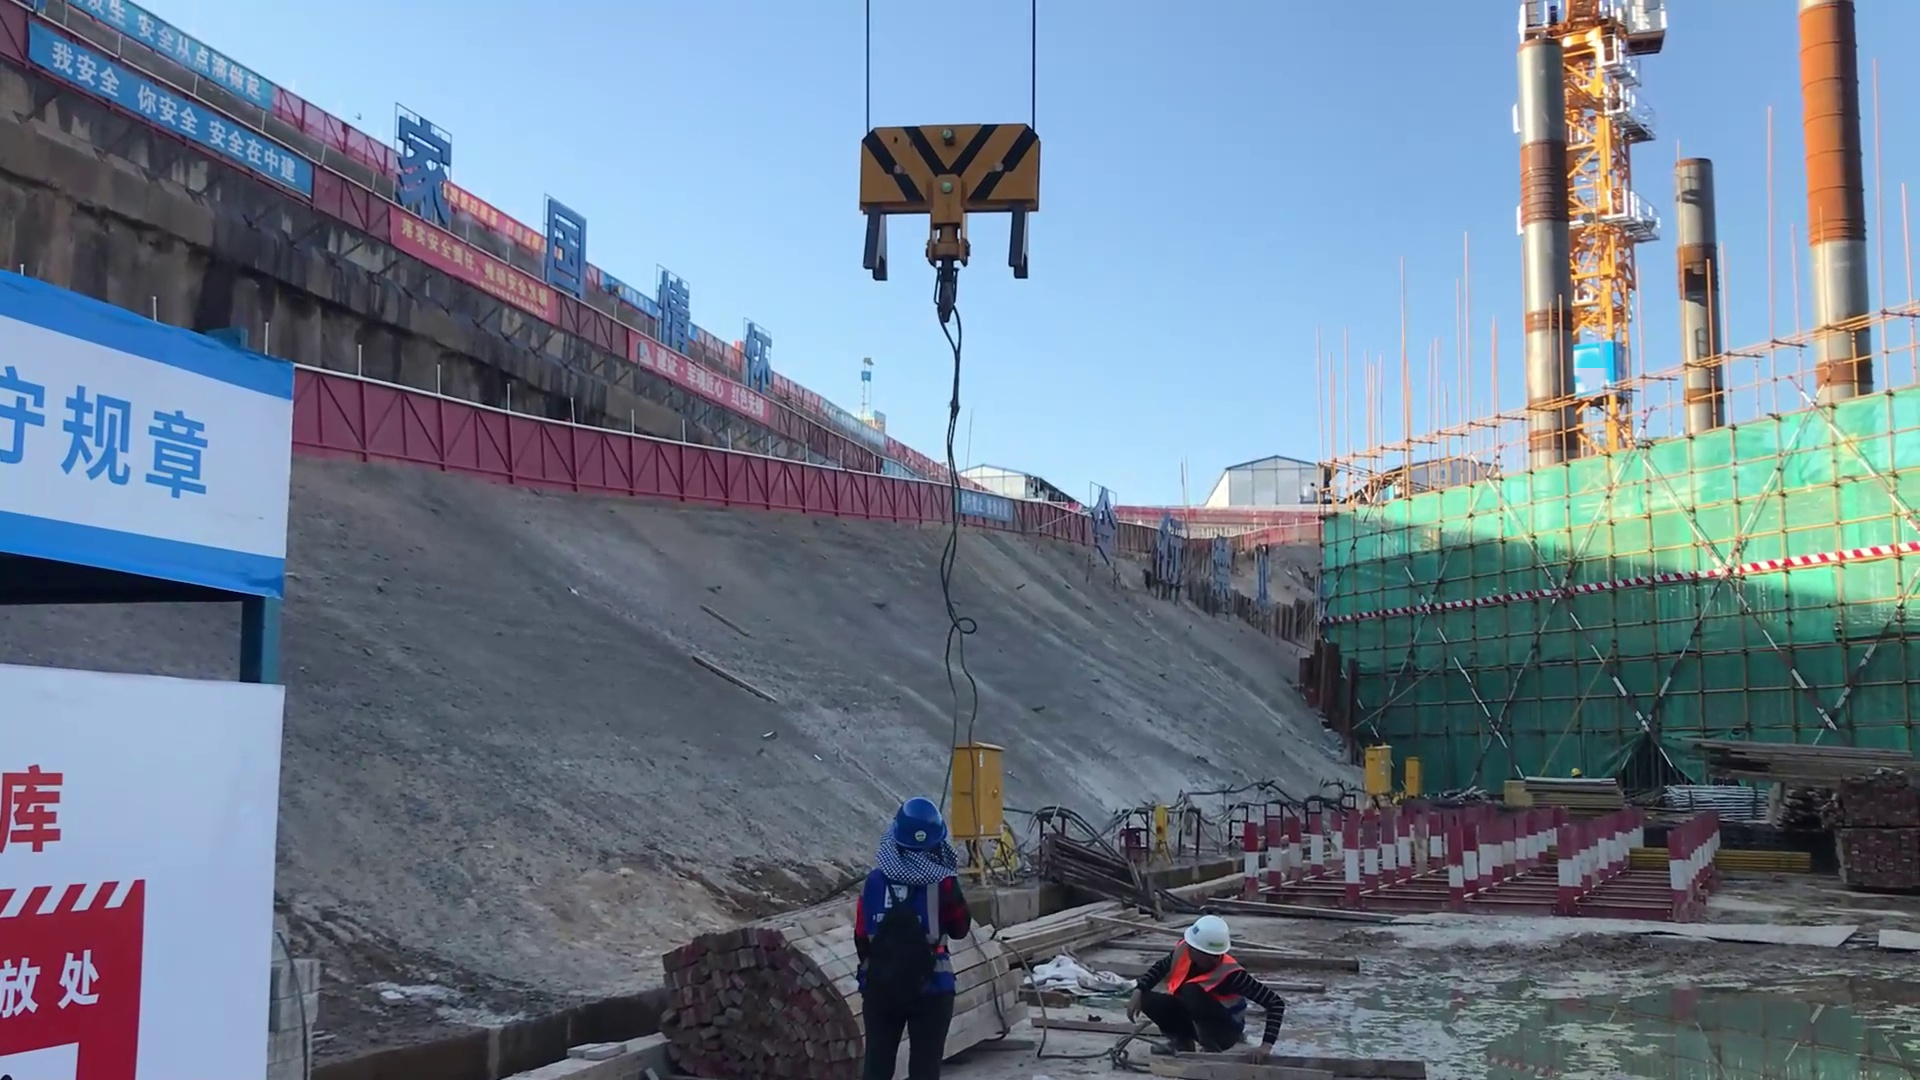board: (658, 912, 840, 1080)
ebox: (949, 733, 1019, 865), (1348, 739, 1393, 802), (1399, 755, 1423, 807)
fence: (292, 372, 688, 508), (685, 448, 958, 531), (952, 500, 1111, 538)
helmet: (889, 793, 934, 855), (1184, 916, 1229, 961)
hook: (807, 107, 1081, 292)
person: (851, 800, 980, 1080), (1123, 900, 1291, 1067)
slogan: (1, 335, 285, 570), (7, 27, 311, 207), (345, 208, 540, 335)
vest: (1154, 964, 1254, 1027)
wood: (1680, 734, 1917, 815)
